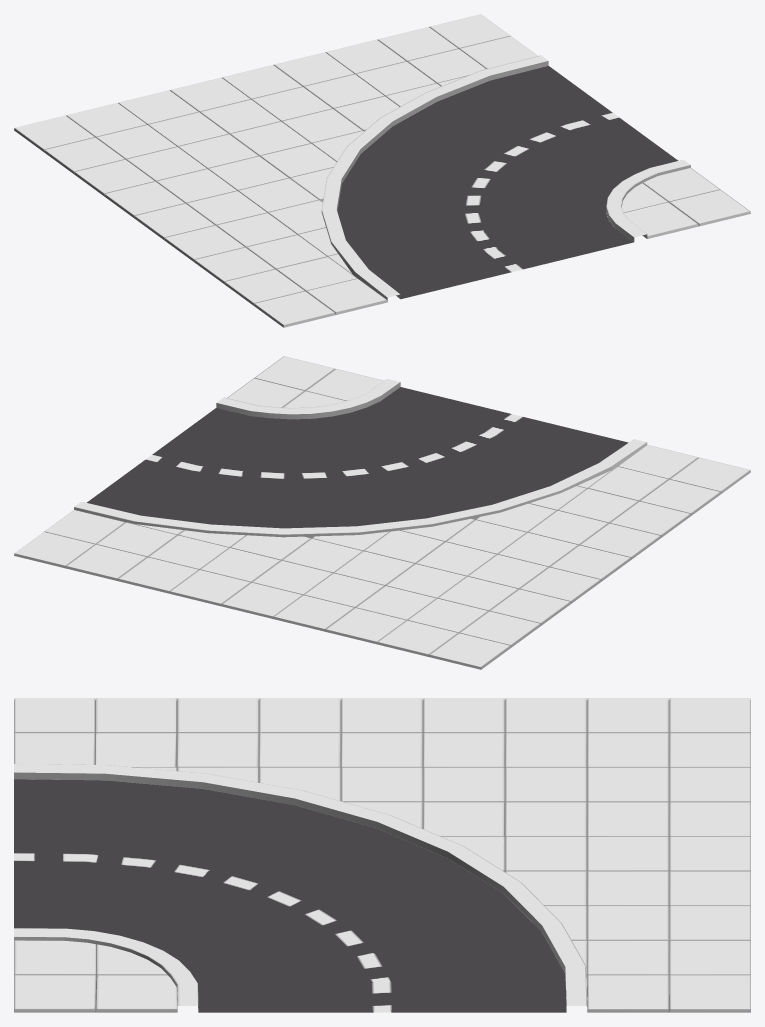
The model's file is RoadCurve.fbx.
3 views of the same model, one above another, from view 1: azimuth 30°, elevation 25°; view 2: azimuth 150°, elevation 25°; view 3: azimuth 270°, elevation 25° (orthographic). The views are drawn at different scales.
Visible parts, largest first — view 1: Road_C; view 2: Road_C; view 3: Road_C.
Boxes of the visible parts, x1=… form: Road_C: x1=14, y1=14, x2=750, y2=327; Road_C: x1=14, y1=356, x2=750, y2=669; Road_C: x1=14, y1=698, x2=750, y2=1012.
Size of the model in its own units: 2000 by 20 by 2000.
